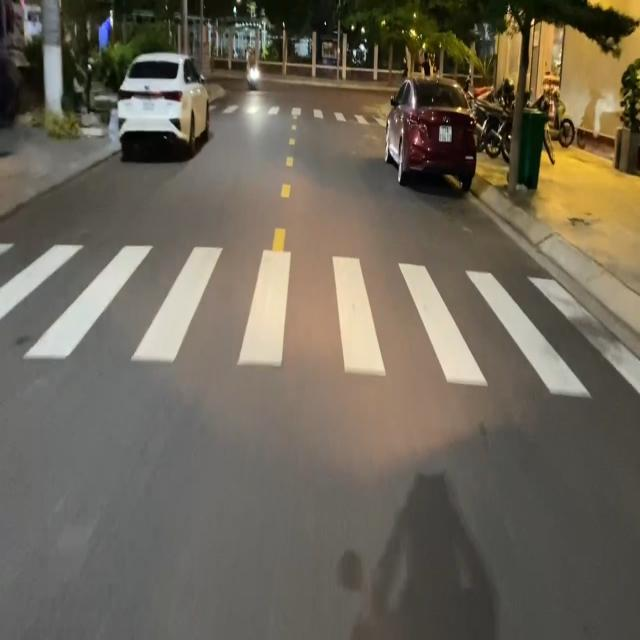walk-crossing: (0, 237, 640, 399)
